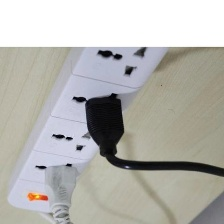three_eye_plug: (3, 42, 174, 216)
